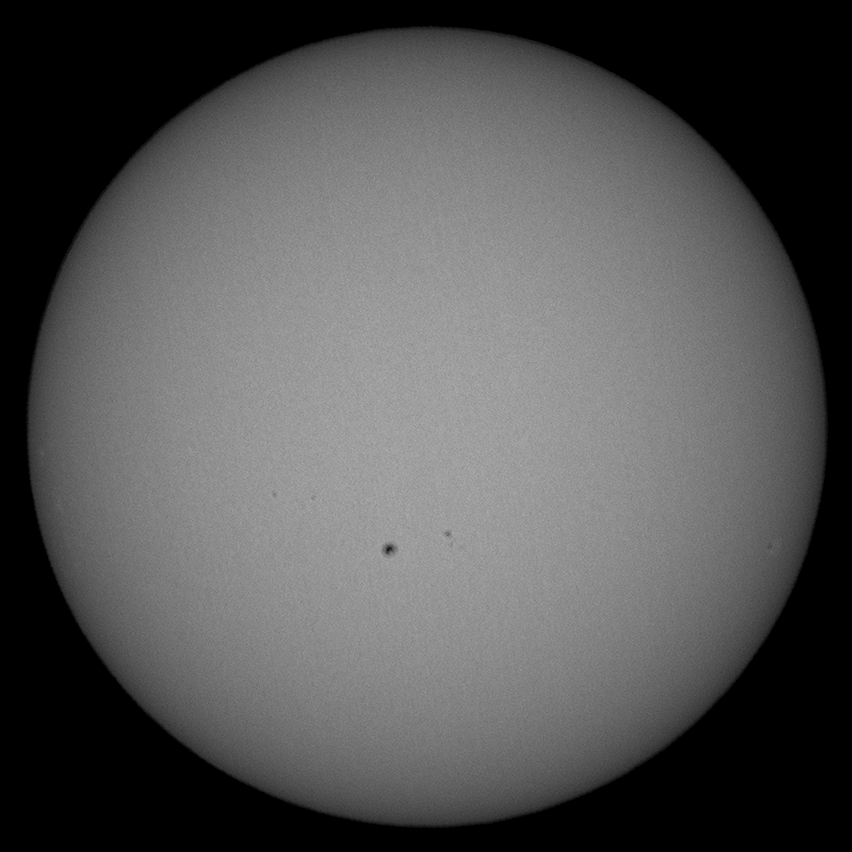sunspot: (377, 538, 403, 560), (438, 525, 457, 548)
